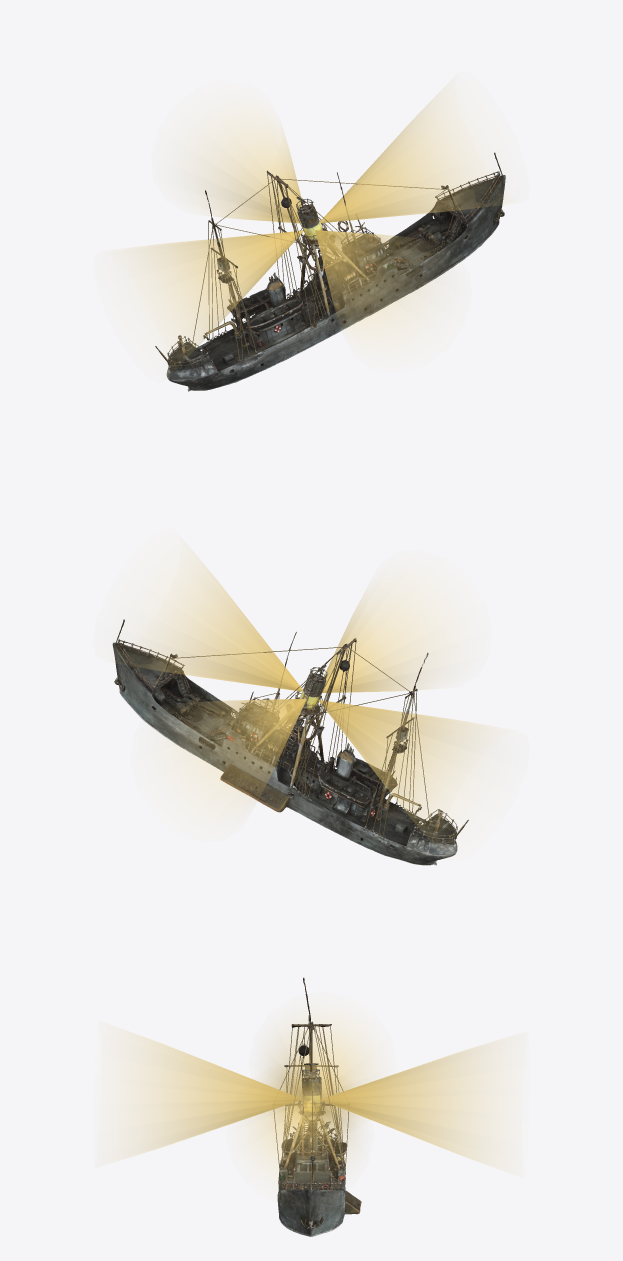
Rendered from feuerschiff_animiert.glb.
3 renders of one model, top to bottom at view 1: azimuth 30°, elevation 25°; view 2: azimuth 150°, elevation 25°; view 3: azimuth 270°, elevation 25°, orthographic. The views are drawn at different scales.
Visible parts, largest first — view 1: Feuerwehrschiff_poisson_150k.baked, Cylinder.009, Cylinder.008, Cylinder.007, Cylinder.006, Takelage.004; view 2: Feuerwehrschiff_poisson_150k.baked, Cylinder.009, Cylinder.008, Cylinder.006, Cylinder.007, Takelage.004; view 3: Cylinder.006, Cylinder.007, Feuerwehrschiff_poisson_150k.baked, Cylinder.008, Cylinder.009, Takelage.004.
Boxes of the visible parts, bbox=[...] form: Feuerwehrschiff_poisson_150k.baked: bbox=[155, 152, 505, 391]; Cylinder.009: bbox=[131, 230, 303, 356]; Cylinder.008: bbox=[320, 96, 491, 223]; Cylinder.007: bbox=[315, 230, 425, 331]; Cylinder.006: bbox=[197, 122, 301, 223]; Takelage.004: bbox=[191, 174, 463, 359]; Feuerwehrschiff_poisson_150k.baked: bbox=[112, 619, 468, 865]; Cylinder.009: bbox=[318, 700, 488, 833]; Cylinder.008: bbox=[137, 558, 302, 691]; Cylinder.006: bbox=[183, 699, 306, 800]; Cylinder.007: bbox=[322, 592, 439, 692]; Takelage.004: bbox=[155, 642, 430, 835]; Cylinder.006: bbox=[321, 1041, 495, 1166]; Cylinder.007: bbox=[127, 1032, 301, 1157]; Feuerwehrschiff_poisson_150k.baked: bbox=[277, 977, 361, 1236]; Cylinder.008: bbox=[250, 1071, 356, 1176]; Cylinder.009: bbox=[267, 1022, 372, 1117]; Takelage.004: bbox=[273, 1026, 348, 1182].
Bounding box in the file's own units: 0.6697 × 0.3829 × 0.6461.
Materials: 3 (2 with a texture image).
